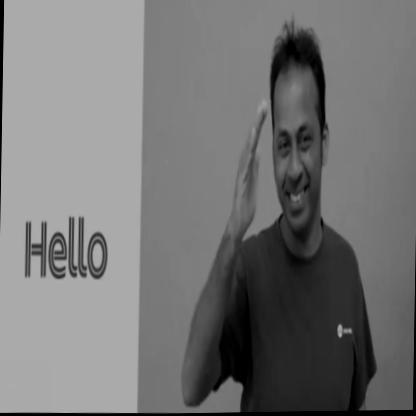Hello: (180, 10, 378, 414)
